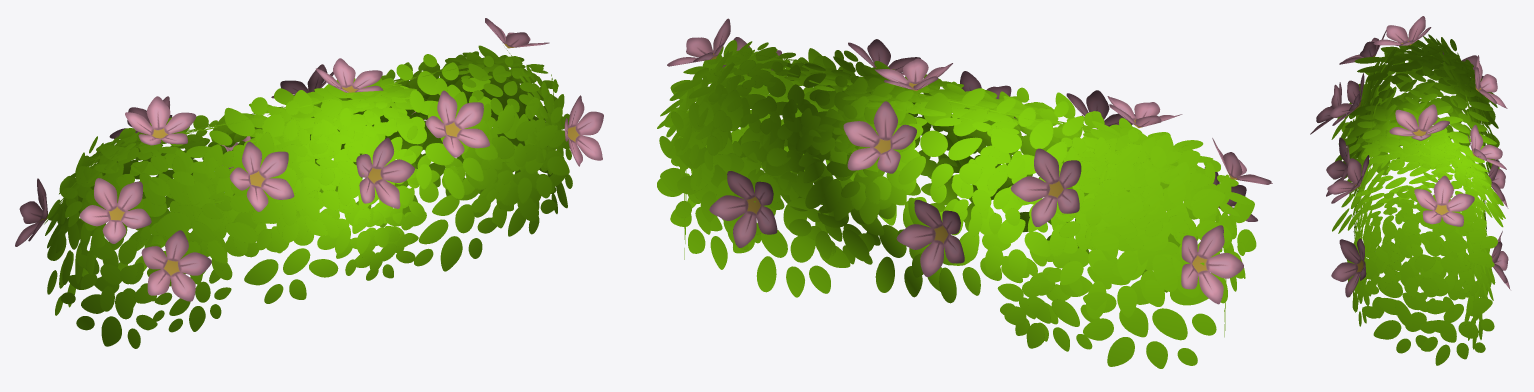
File: bush_small_flowers.gltf
The picture shows the model from 3 angles, left to right: view 1: azimuth 30°, elevation 25°; view 2: azimuth 150°, elevation 25°; view 3: azimuth 270°, elevation 25°; orthographic projection. The views are drawn at different scales.
Parts seen in each view (by area): view 1: Bush_Small_Flowers; view 2: Bush_Small_Flowers; view 3: Bush_Small_Flowers.
Part boxes in pixels (x1,y1,x2,y2): Bush_Small_Flowers: [15, 18, 603, 348]; Bush_Small_Flowers: [657, 18, 1272, 368]; Bush_Small_Flowers: [1310, 16, 1510, 365].
Size of the model in its own units: 1.93 by 0.8168 by 0.7617.
Materials: 2 (2 with a texture image).
